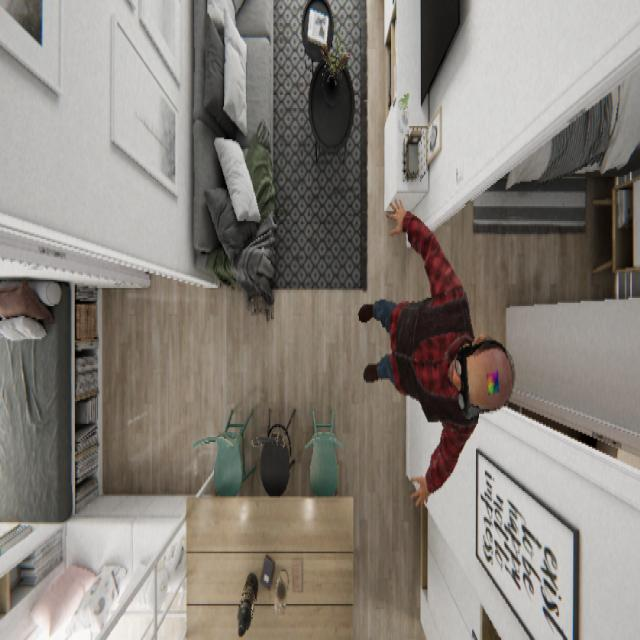Colored-Marker: (484, 365, 500, 396)
Human: (358, 195, 516, 507)
